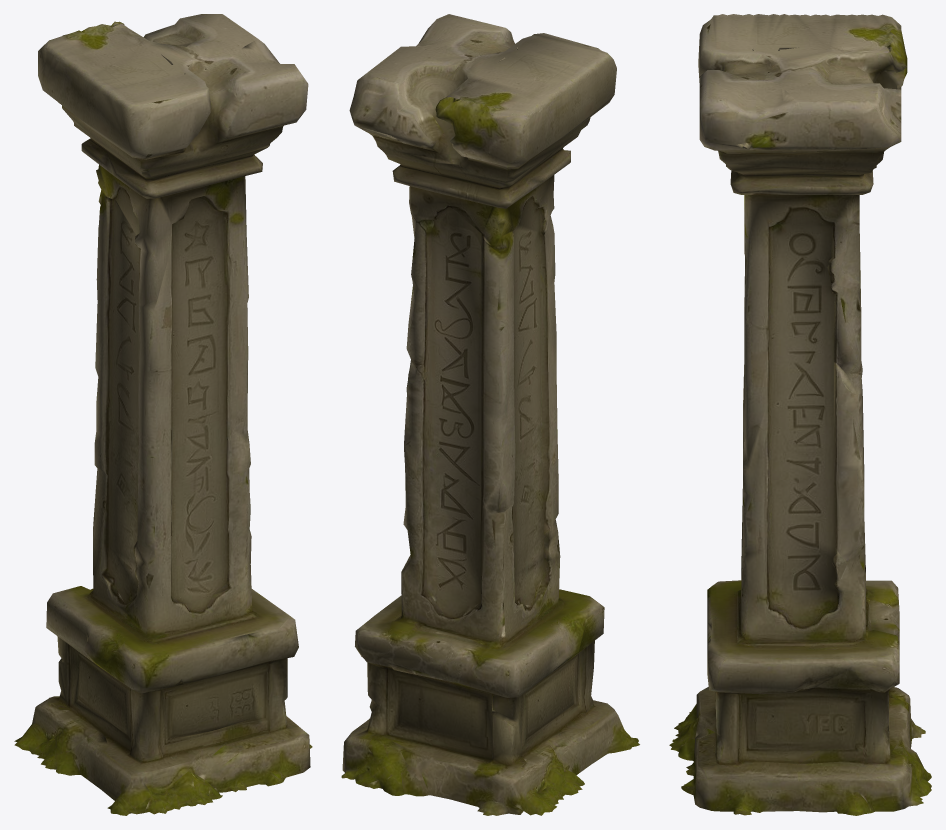
Rendered from ancient_ruin_pillar.glb.
The picture shows the model from 3 angles, left to right: view 1: azimuth 30°, elevation 25°; view 2: azimuth 150°, elevation 25°; view 3: azimuth 270°, elevation 25°; orthographic projection. The views are drawn at different scales.
Bounding box in the file's own units: 0.2008 × 0.6 × 0.2008.
1 material, 1 textured.
